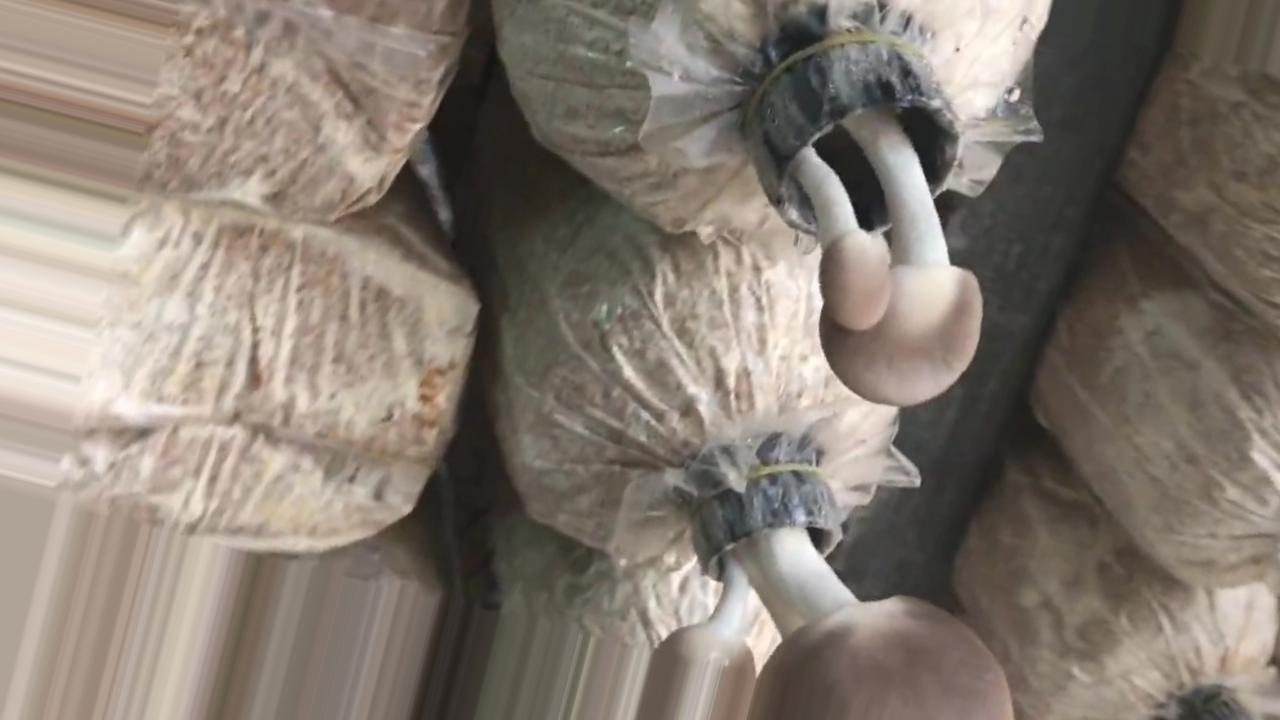nam: (642, 465, 1010, 720), (742, 34, 984, 406)
